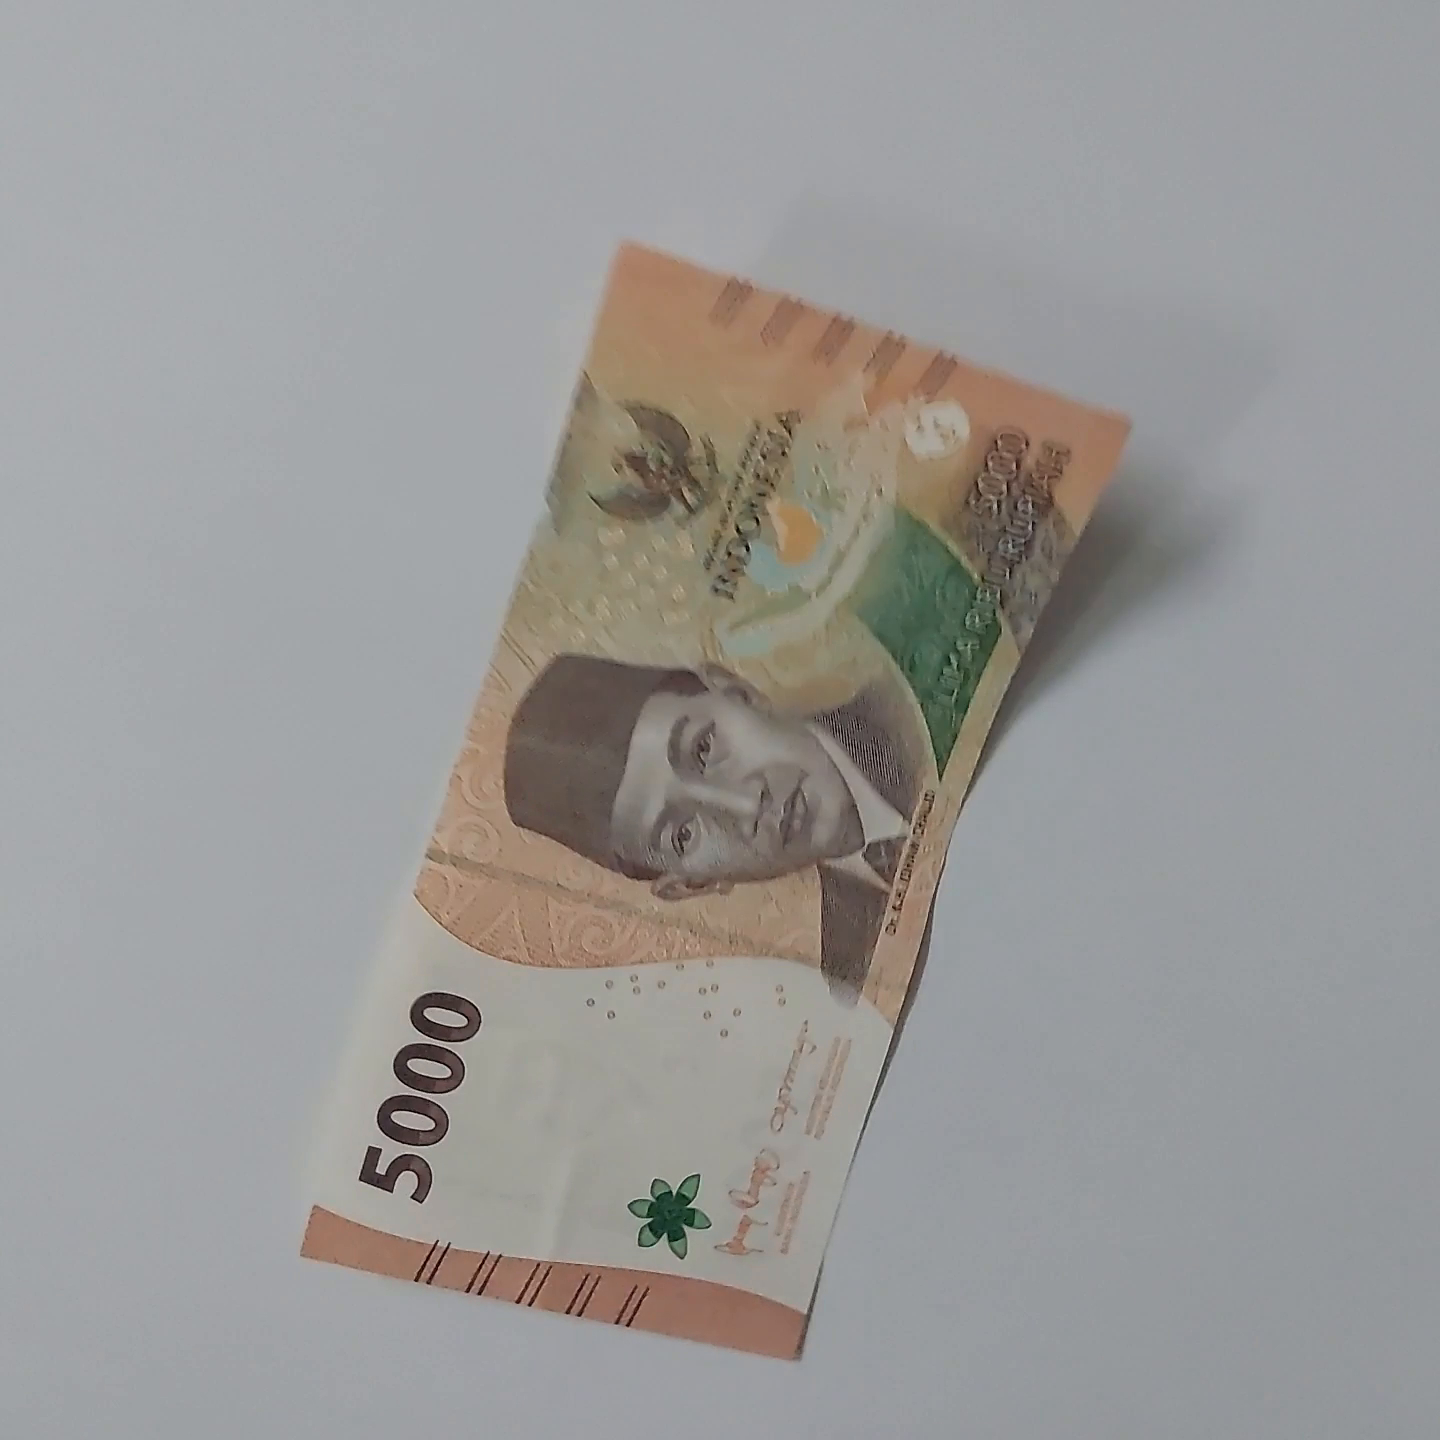5k: (554, 202, 1167, 1298)
